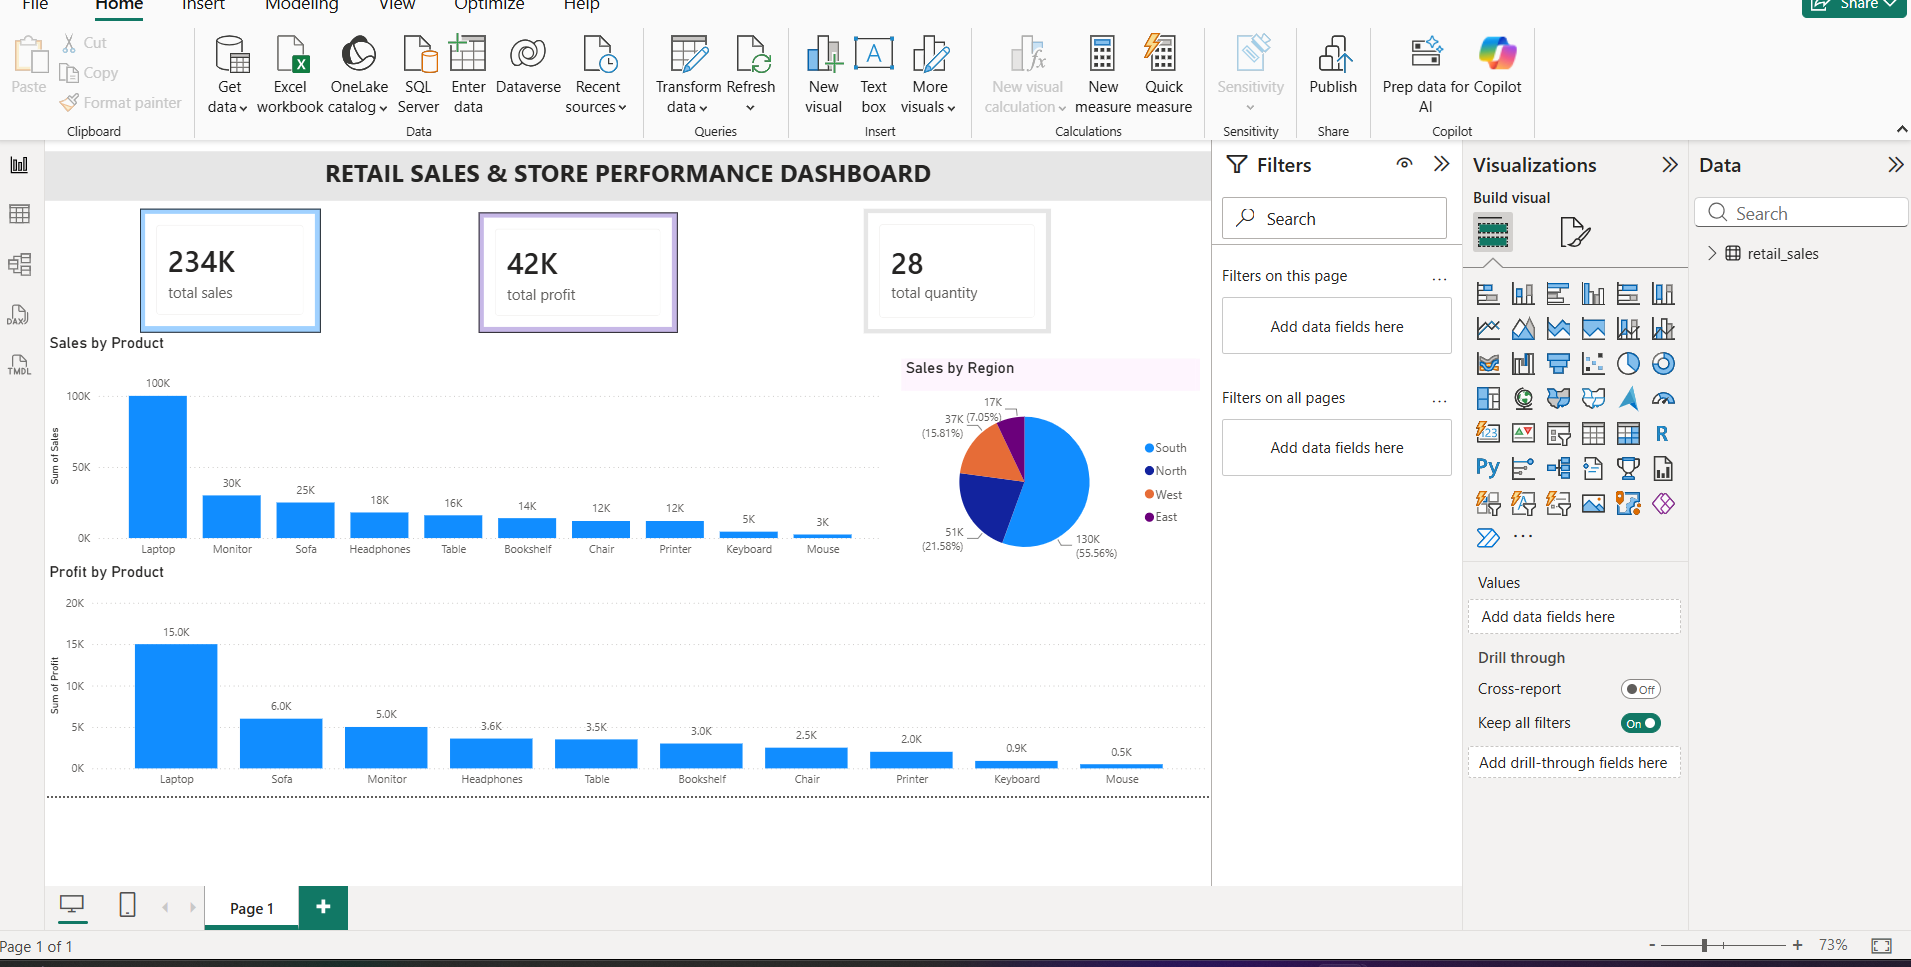

The page's visual inventory and layout, read from the dashboard file:
{"tool":"powerbi","page":{"name":"Page 1","canvas":[1280,720],"ordinal":0},"visuals":[{"type":"clusteredColumnChart","title":" Sales by Product","fields":{"Category":["retail_sales.Product"],"Y":["Sum(retail_sales.Sales)"]},"box":[0,210,924.3,254.3],"z":0},{"type":"clusteredColumnChart","title":"Profit by Product","fields":{"Category":["retail_sales.Product"],"Y":["Sum(retail_sales.Profit)"]},"box":[0,464.3,1280,256],"z":1000},{"type":"pieChart","title":"Sales by Region","fields":{"Category":["retail_sales.Region"],"Y":["Sum(retail_sales.Sales)"]},"box":[952,240,328,240],"z":2000},{"type":"textbox","box":[0,12.9,1280,54.3],"z":3000},{"type":"cardVisual","title":"total sales ","fields":{"Data":["Sum(retail_sales.Sales)"]},"box":[81.4,80,198.6,135.7],"z":4000},{"type":"cardVisual","title":"total profit","fields":{"Data":["Sum(retail_sales.Profit)"]},"box":[475.7,80,218,132],"z":5000},{"type":"cardVisual","title":"total quantity","fields":{"Data":["Sum(retail_sales.Quantity)"]},"box":[897.1,88.6,205.7,137.1],"z":6000}]}

Visuals, with their boxes on the page's 1280x720 design canvas (x1, y1, x2, y2). These are canvas units, not pixel positions in the 1911x967 screenshot, which may show the page scaled, cropped or inside an application window:
" Sales by Product" clusteredColumnChart: <box>0,210,924,464</box>
"Profit by Product" clusteredColumnChart: <box>0,464,1280,720</box>
"Sales by Region" pieChart: <box>952,240,1280,480</box>
textbox: <box>0,13,1280,67</box>
"total sales " cardVisual: <box>81,80,280,216</box>
"total profit" cardVisual: <box>476,80,694,212</box>
"total quantity" cardVisual: <box>897,89,1103,226</box>
